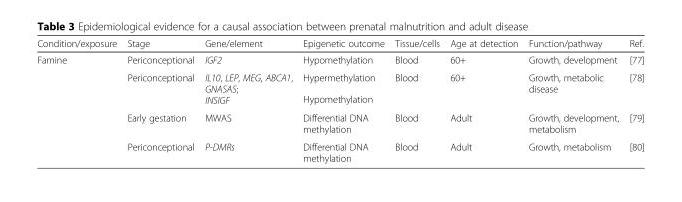table: (36, 37, 643, 163)
table column: (522, 37, 623, 163), (198, 37, 297, 163), (297, 37, 389, 163), (36, 37, 121, 163), (444, 37, 522, 163), (121, 37, 198, 163), (389, 37, 444, 163), (623, 37, 643, 163)
table column header: (36, 37, 643, 51)
table row: (36, 108, 643, 137), (36, 137, 643, 163), (36, 87, 643, 108), (36, 68, 643, 87), (36, 51, 643, 68), (36, 37, 643, 51)
table spanning cell: (36, 51, 121, 163), (522, 68, 623, 108), (198, 68, 297, 108), (444, 68, 522, 108), (121, 68, 198, 108), (389, 68, 444, 108), (623, 68, 643, 108)
